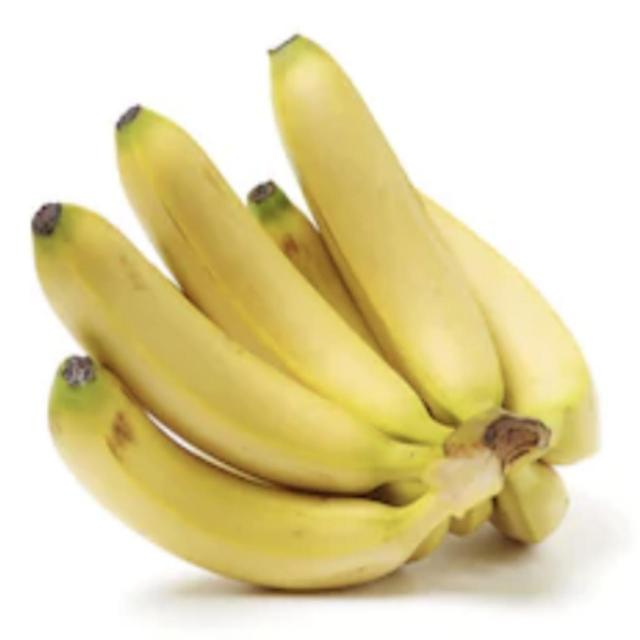banana: (75, 34, 438, 439), (25, 177, 452, 501), (235, 8, 534, 452), (44, 368, 498, 634)
